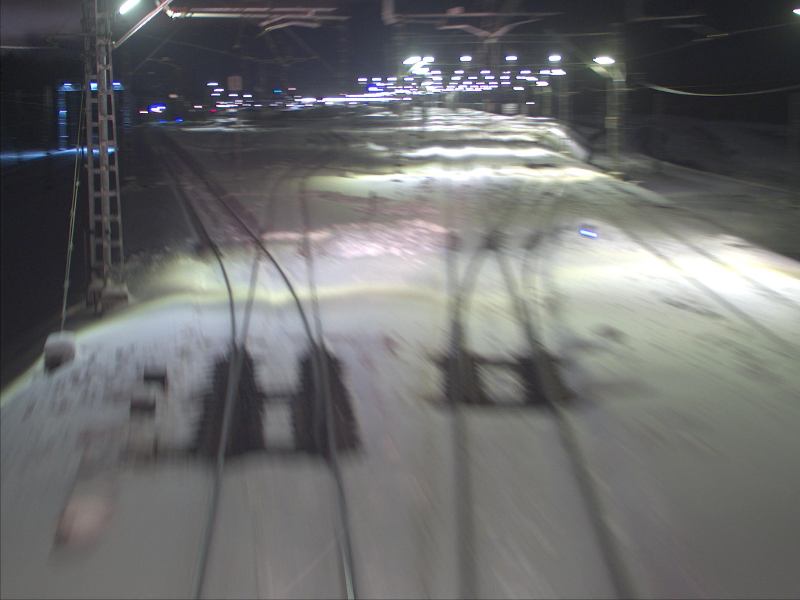right: (212, 240, 339, 451)
